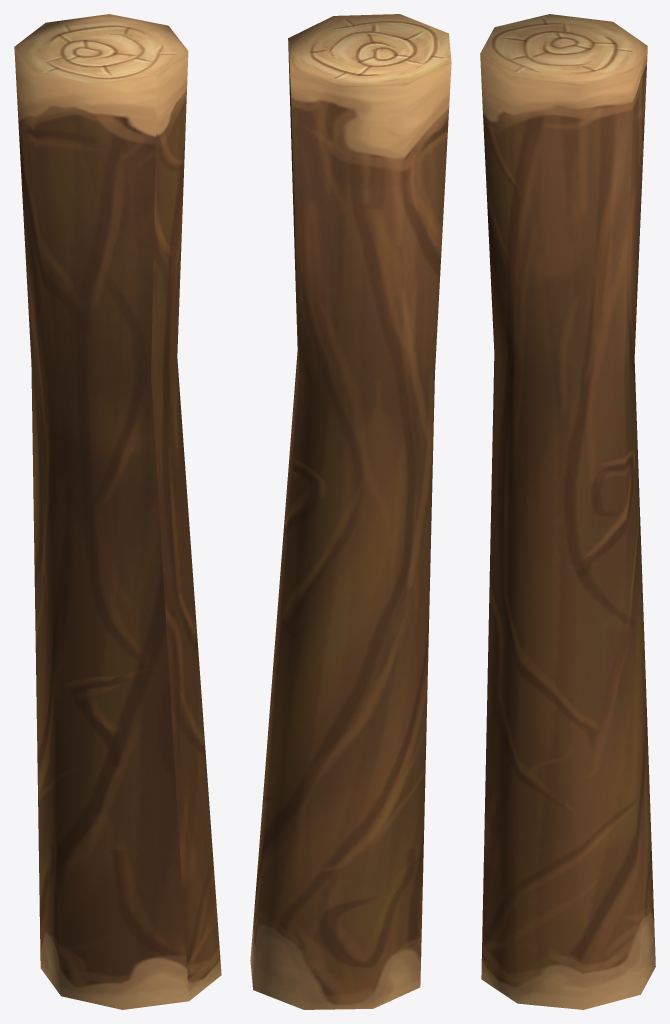
File: wooden_pillar_01.fbx
3 views of the same model, side by side, from view 1: azimuth 30°, elevation 25°; view 2: azimuth 150°, elevation 25°; view 3: azimuth 270°, elevation 25° (orthographic). The views are drawn at different scales.
Parts seen in each view (by area): view 1: wooden_pillar_01; view 2: wooden_pillar_01; view 3: wooden_pillar_01.
Boxes of the visible parts, <box> form: wooden_pillar_01: <box>14,14,221,1009</box>; wooden_pillar_01: <box>250,14,451,1009</box>; wooden_pillar_01: <box>480,14,655,1009</box>.
Size of the model in its own units: 1.83 by 8.89 by 1.56.
